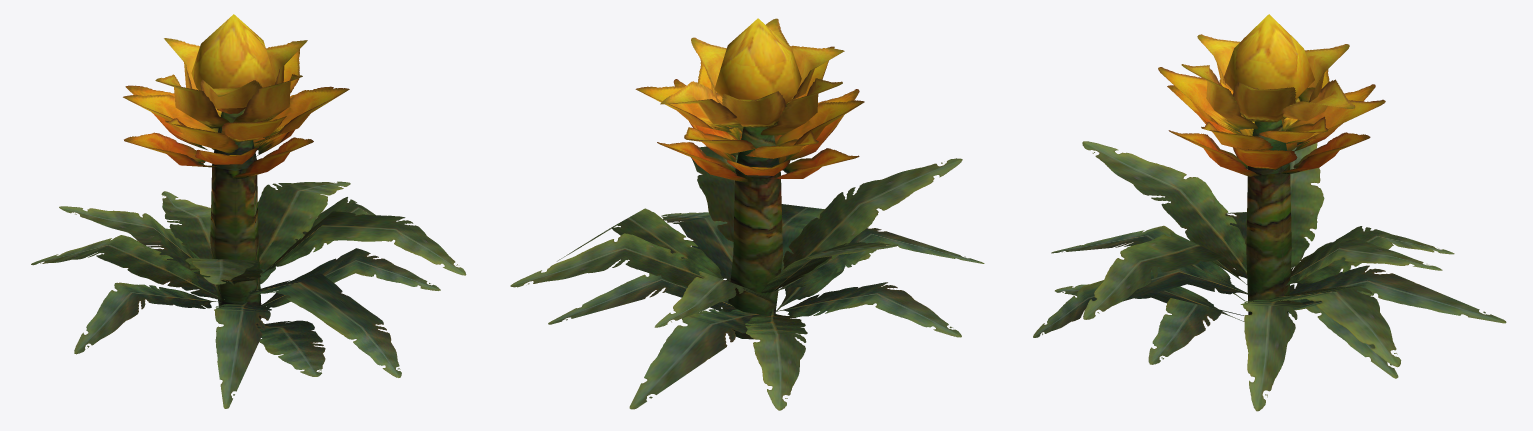
Rendered from wm_地涌金莲花.fbx.
3 views of the same model, side by side, from view 1: azimuth 30°, elevation 25°; view 2: azimuth 150°, elevation 25°; view 3: azimuth 270°, elevation 25° (orthographic). The views are drawn at different scales.
Visible parts, largest first — view 1: wm_地涌金莲花; view 2: wm_地涌金莲花; view 3: wm_地涌金莲花.
Boxes of the visible parts, x1=… form: wm_地涌金莲花: x1=31, y1=14, x2=466, y2=408; wm_地涌金莲花: x1=510, y1=18, x2=984, y2=410; wm_地涌金莲花: x1=1033, y1=14, x2=1506, y2=411.
Bounding box in the file's own units: 239 × 177 × 254.
